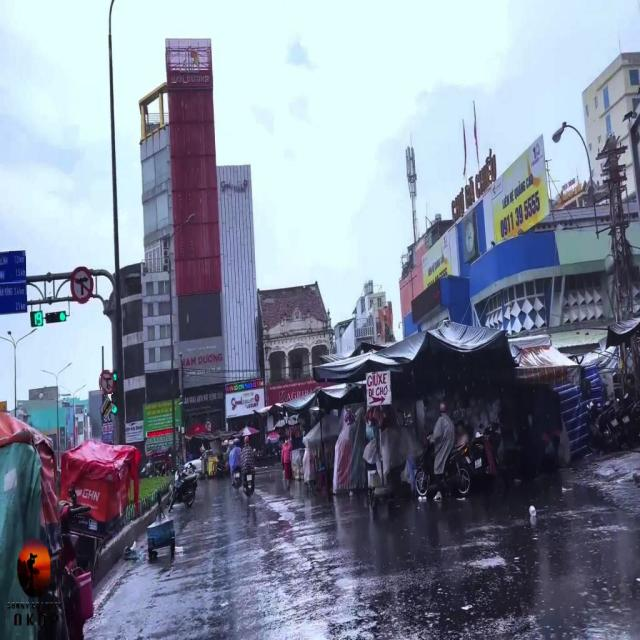cam_re_phai: (205, 421, 211, 431)
cam_re_trai_va_phai: (72, 267, 94, 303), (99, 370, 113, 394)
duong_het_uu_tien: (100, 396, 114, 420)
khac: (0, 251, 26, 282), (1, 283, 27, 314)
